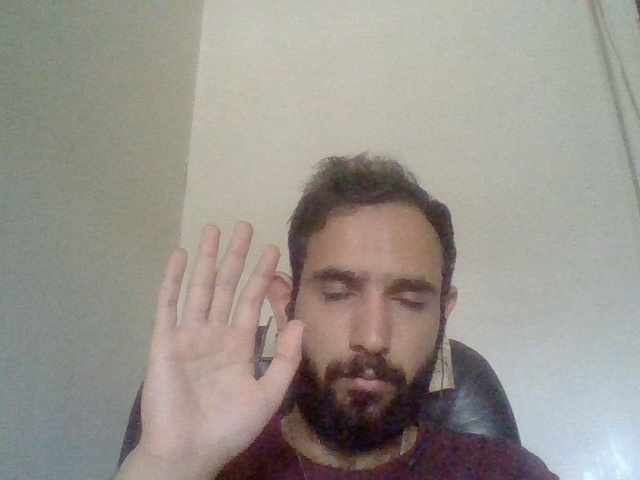Goodbye: (127, 211, 303, 463)
